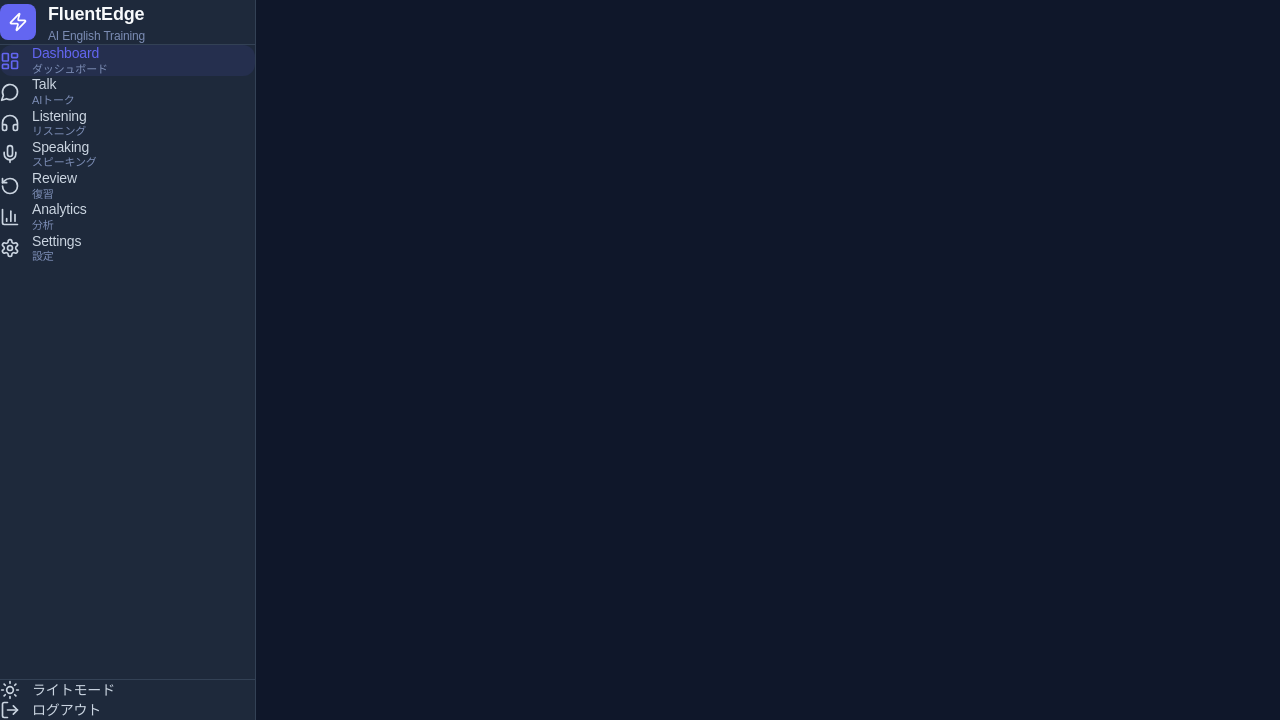
Test: Sidebar › テーマ切り替えボタンが動作する
Expected: the text "ライトモード" is shown, x1=32 y1=680 x2=115 y2=700
# クリックしてトグル
Click the button "ライトモード" at x=128, y=690, box x1=0 y1=680 x2=255 y2=700
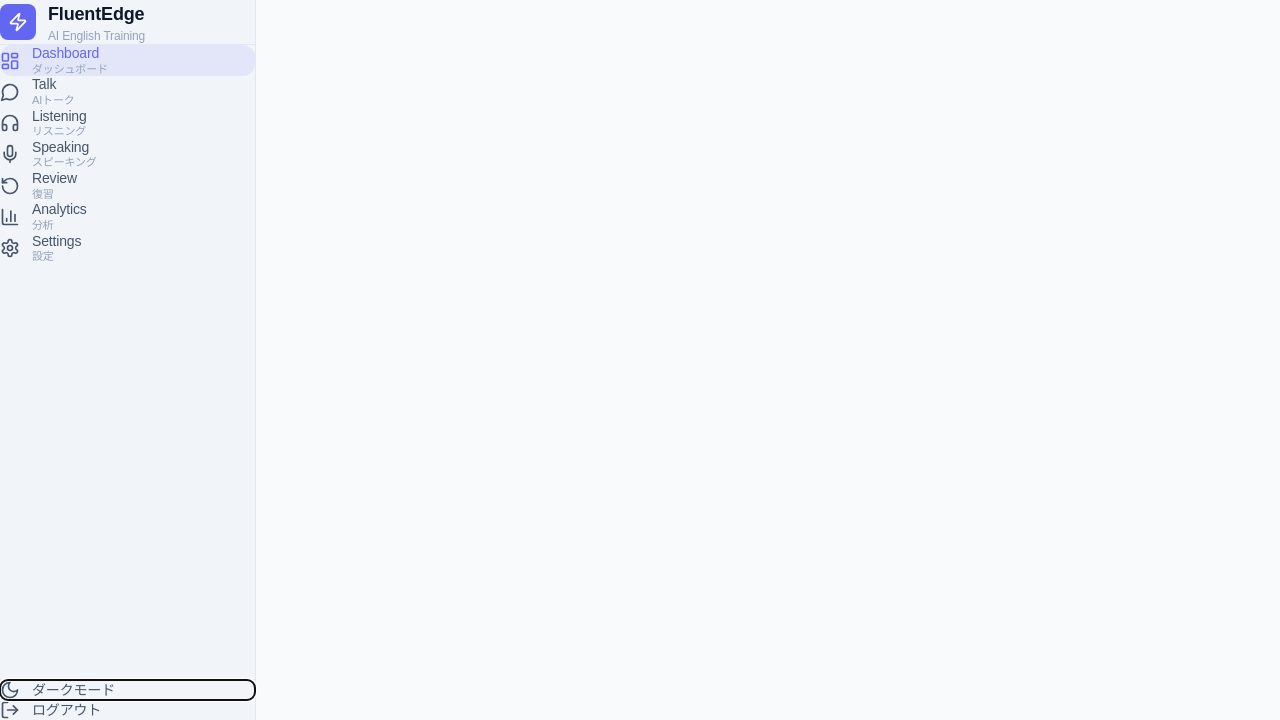
Now the text "ダークモード" is shown, box x1=32 y1=680 x2=115 y2=700
